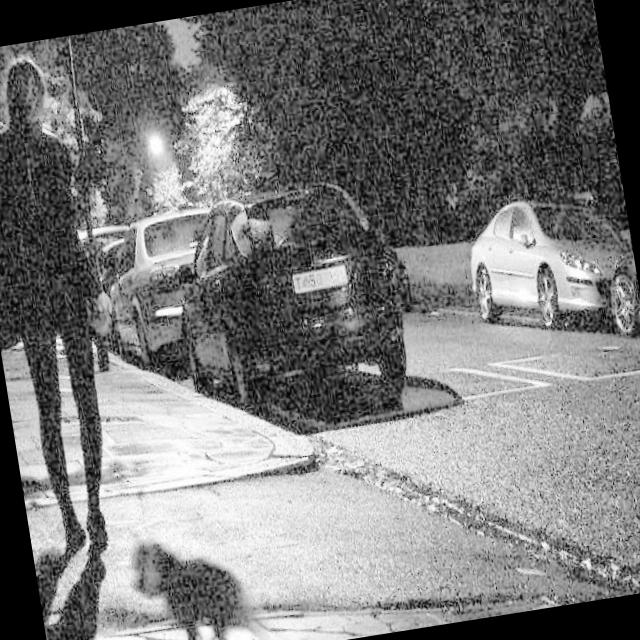Dog: (82, 483, 328, 640)
Person: (0, 33, 169, 578)
